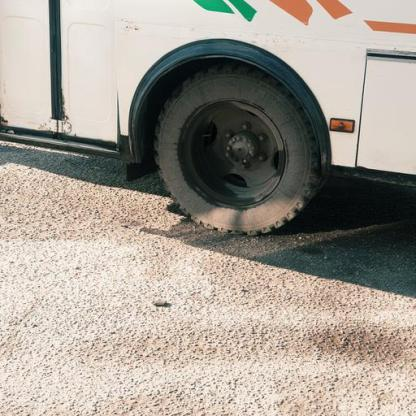Tire: (154, 62, 323, 236)
